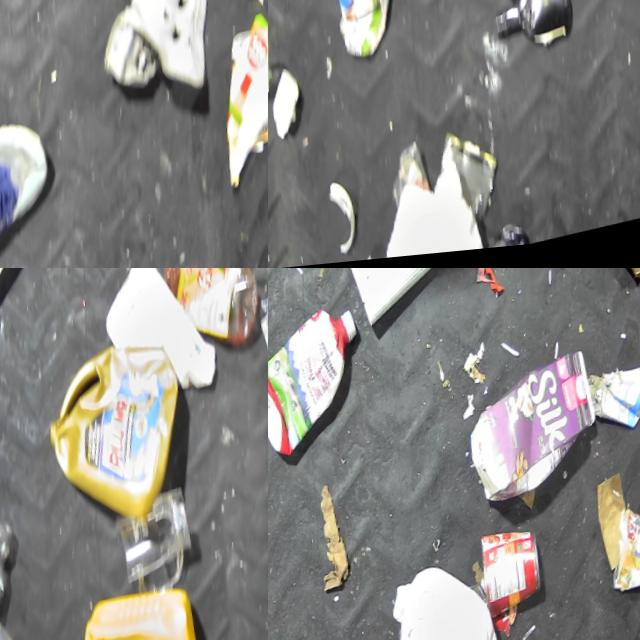can: (438, 124, 517, 236), (482, 528, 558, 629), (101, 7, 171, 105), (610, 507, 640, 604), (510, 221, 537, 253)
milk_jug: (386, 556, 522, 640)
non_white_jug: (37, 333, 203, 544), (465, 354, 615, 519), (268, 304, 377, 466), (72, 579, 235, 640)
plastic_bottle: (0, 516, 30, 621)
